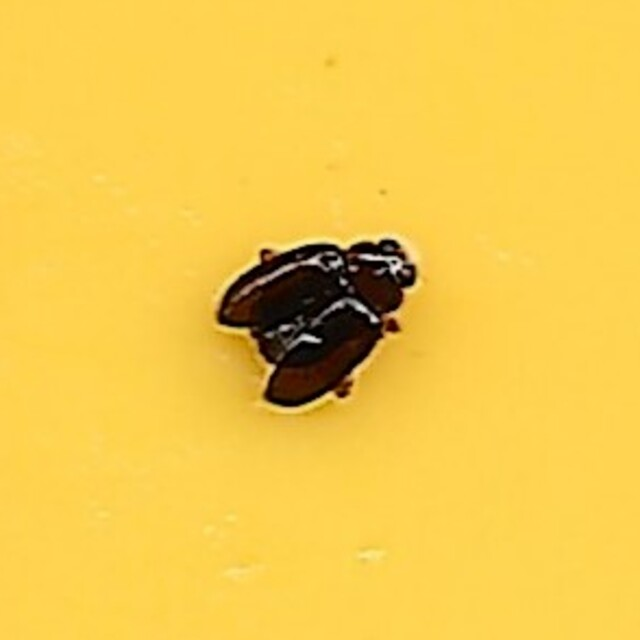Coleoptera: (218, 229, 422, 411)
